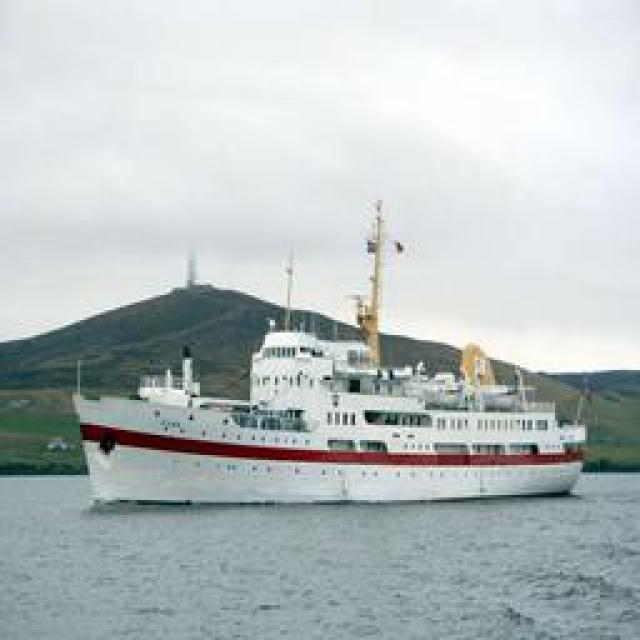Ship: (73, 321, 591, 509)
